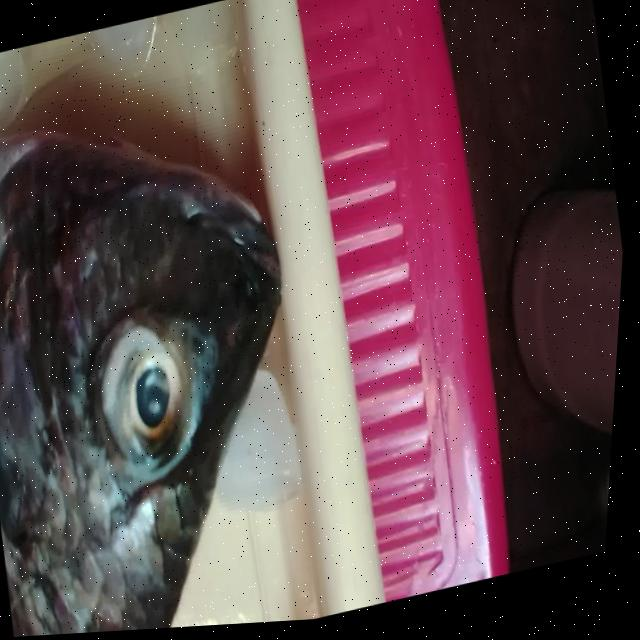Fresh: (90, 305, 218, 496)
